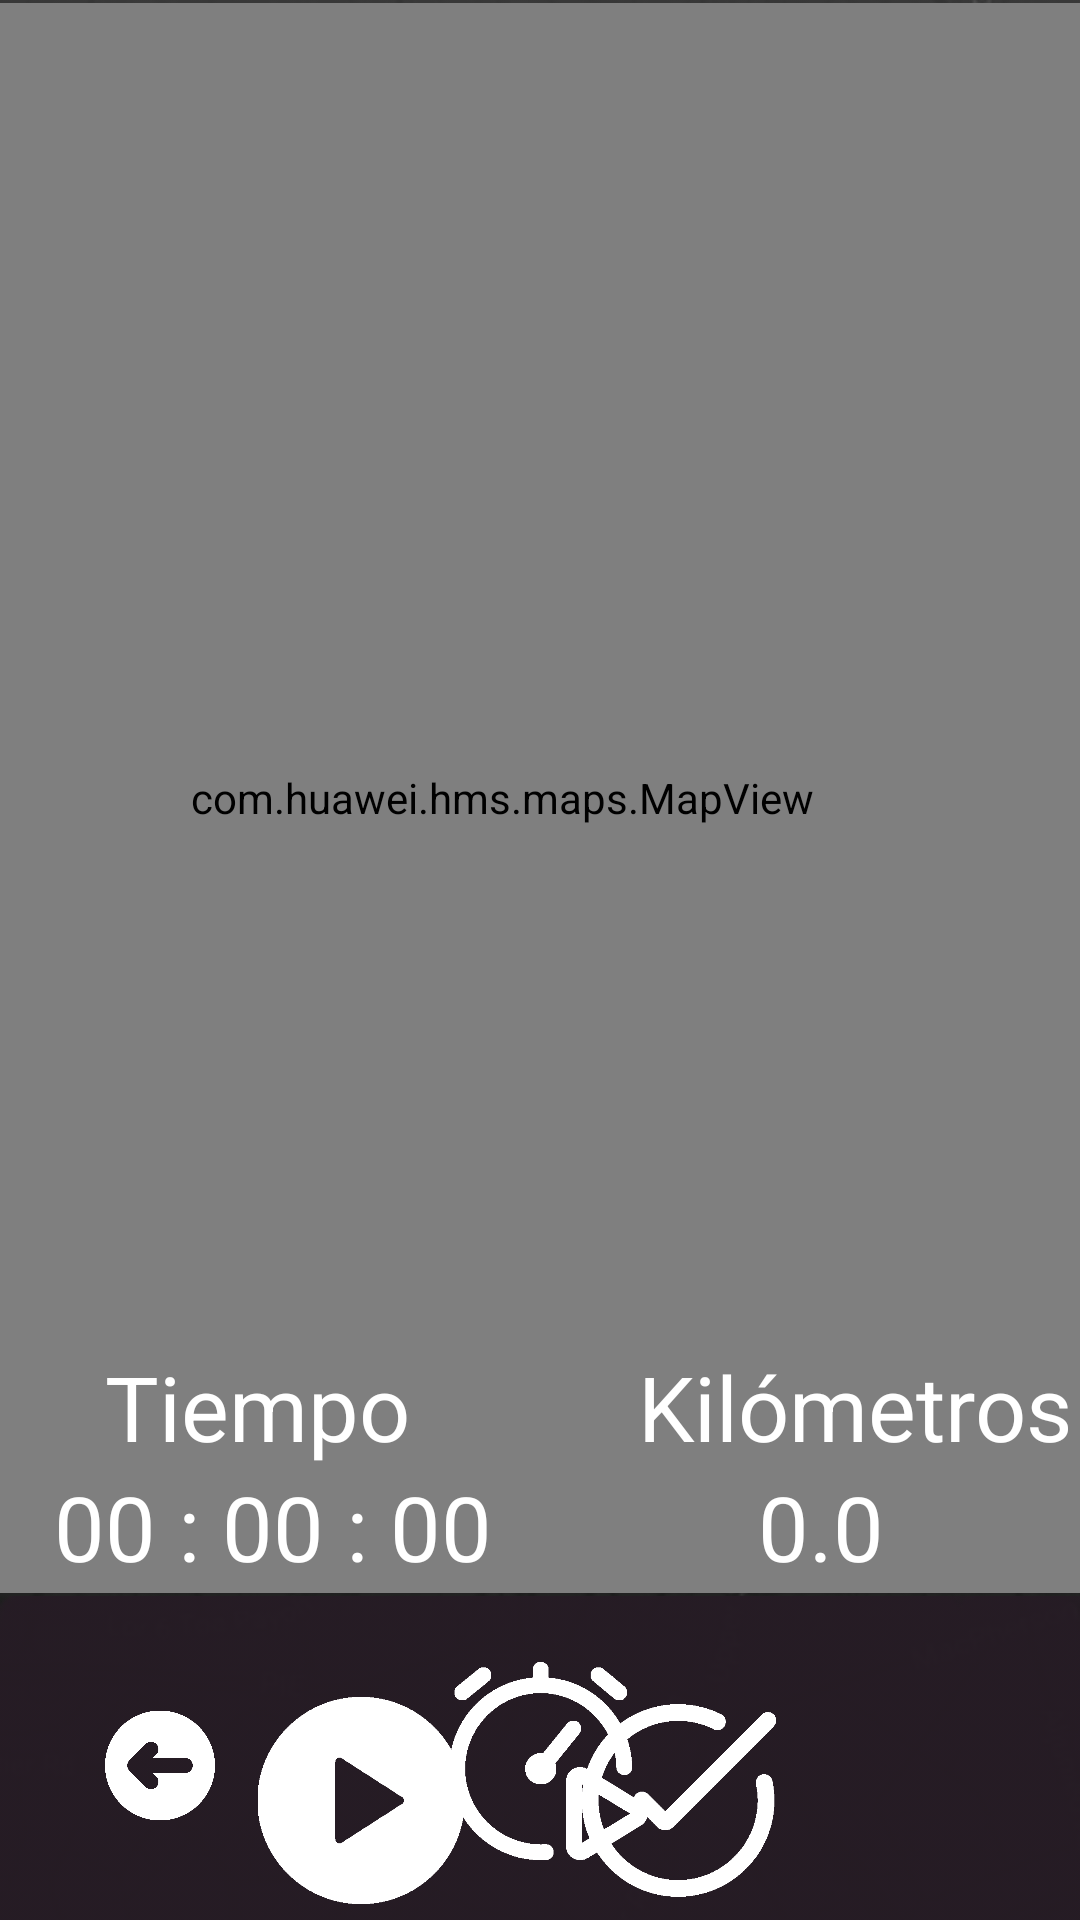

Icon click points for this 1080w x 1920h phone screenshot, format (x=x, y=y):
regresar: (x=160, y=1765)
